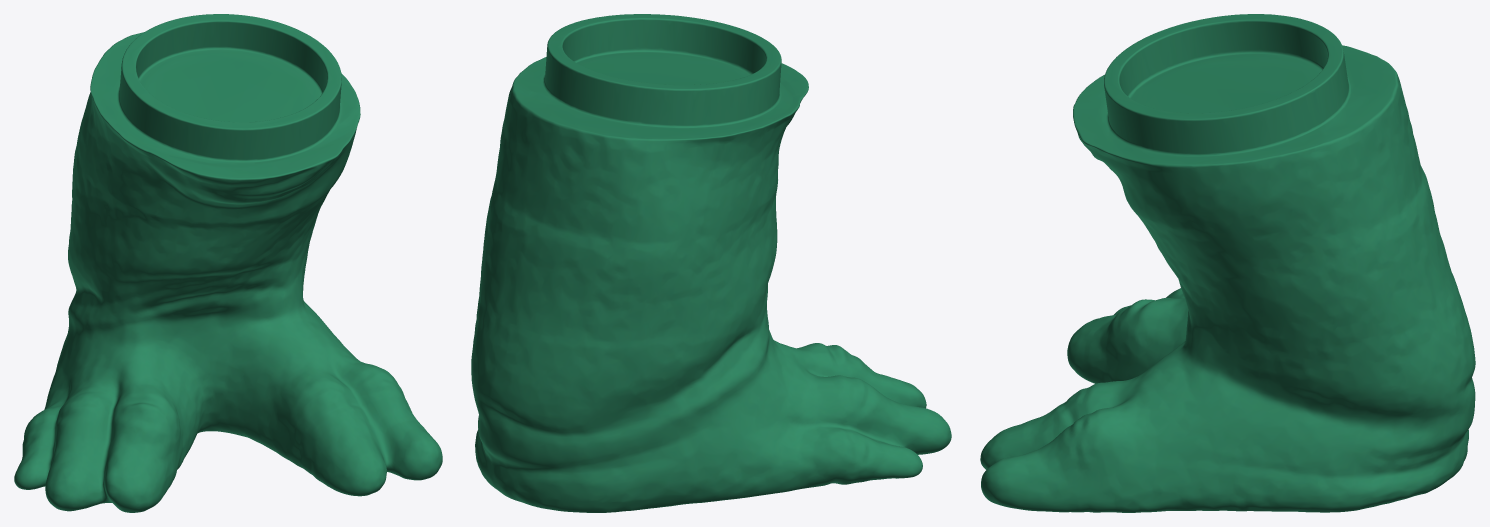
Rendered from Patte_Cameleon_rg.glb.
3 views of the same model, side by side, from view 1: azimuth 30°, elevation 25°; view 2: azimuth 150°, elevation 25°; view 3: azimuth 270°, elevation 25° (orthographic). The views are drawn at different scales.
Parts seen in each view (by area): view 1: Patte_Cameleon_rg; view 2: Patte_Cameleon_rg; view 3: Patte_Cameleon_rg.
Boxes of the visible parts, x1,y1,x2,y2 form: Patte_Cameleon_rg: [14, 14, 442, 512]; Patte_Cameleon_rg: [471, 14, 951, 512]; Patte_Cameleon_rg: [980, 14, 1475, 512].
Bounding box in the file's own units: 2.24 × 2.27 × 2.54.
